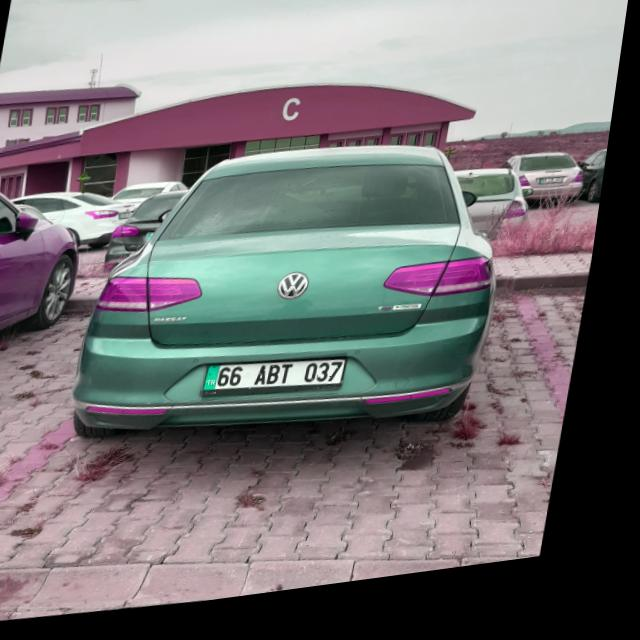license_plate: (213, 359, 359, 412)
